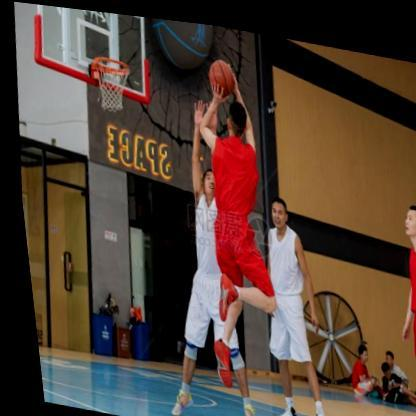basketball: (205, 53, 236, 92)
rim: (89, 53, 132, 112)
